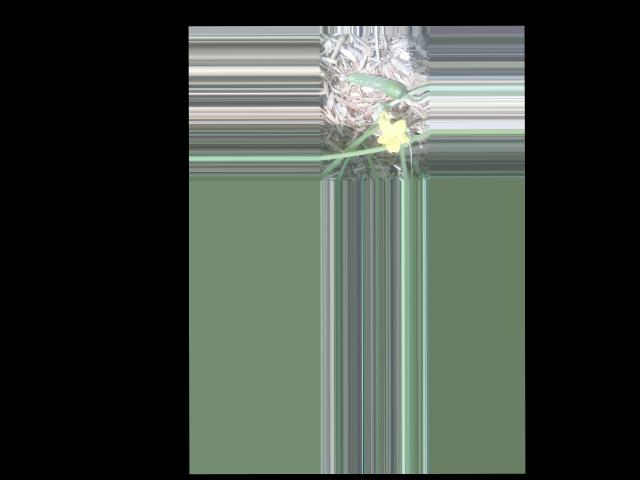cucumber: (341, 72, 406, 99)
